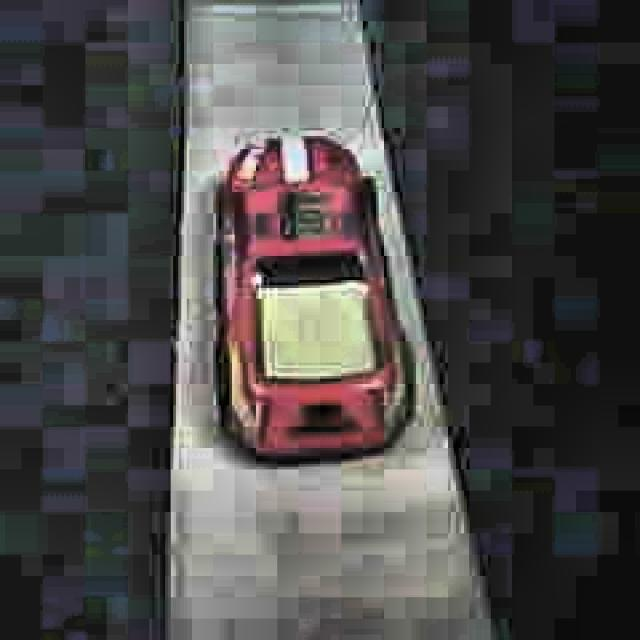car: (206, 126, 416, 472)
